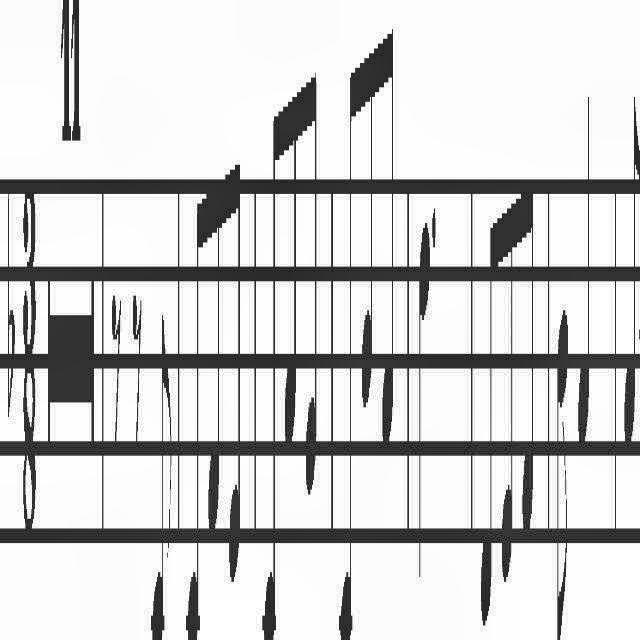Bemol: (2, 156, 18, 432)
Eighth-note: (337, 48, 357, 640), (181, 111, 202, 640), (148, 266, 176, 640), (379, 1, 397, 544), (357, 31, 379, 441), (498, 150, 516, 640), (262, 102, 278, 640), (302, 43, 318, 549), (226, 144, 242, 624), (204, 157, 222, 578), (480, 168, 496, 640), (623, 72, 640, 480), (556, 256, 574, 640), (520, 143, 536, 567), (281, 83, 297, 493), (639, 72, 640, 480)
Eighth-rest: (128, 274, 144, 486), (110, 274, 122, 484)
Quarter-note: (575, 60, 593, 484), (414, 156, 430, 630)
